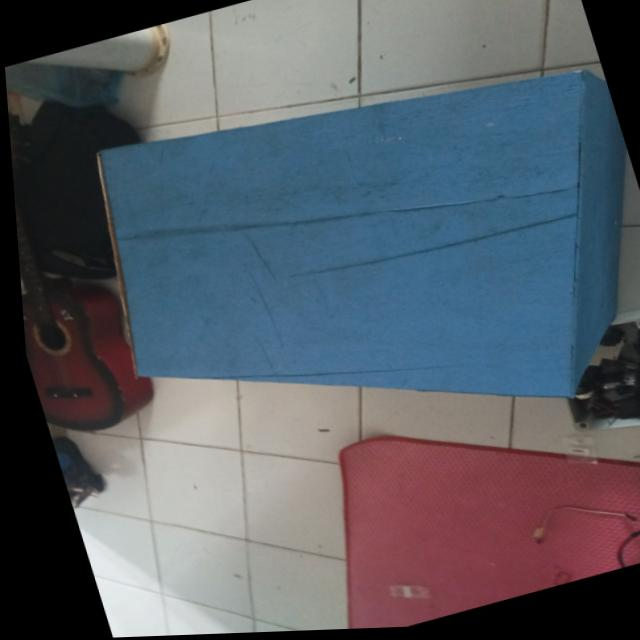blue_box: (4, 14, 640, 522)
